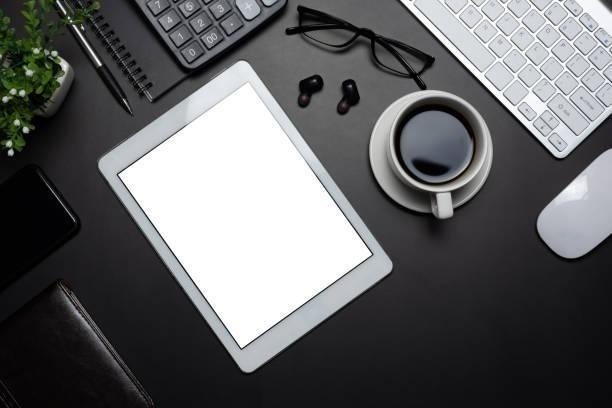cup-handle: (387, 89, 492, 220)
